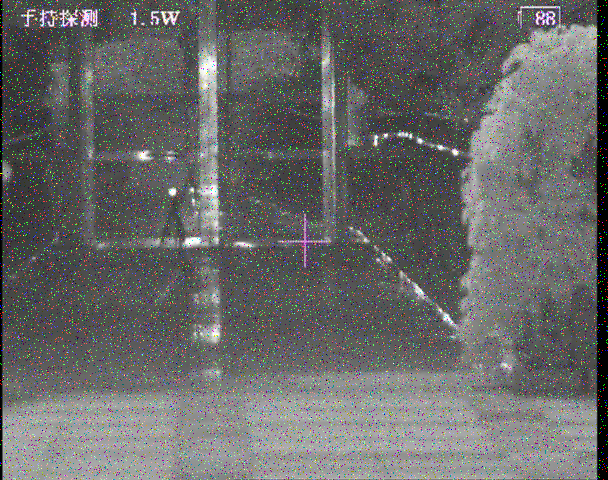my: (168, 187, 178, 197)
